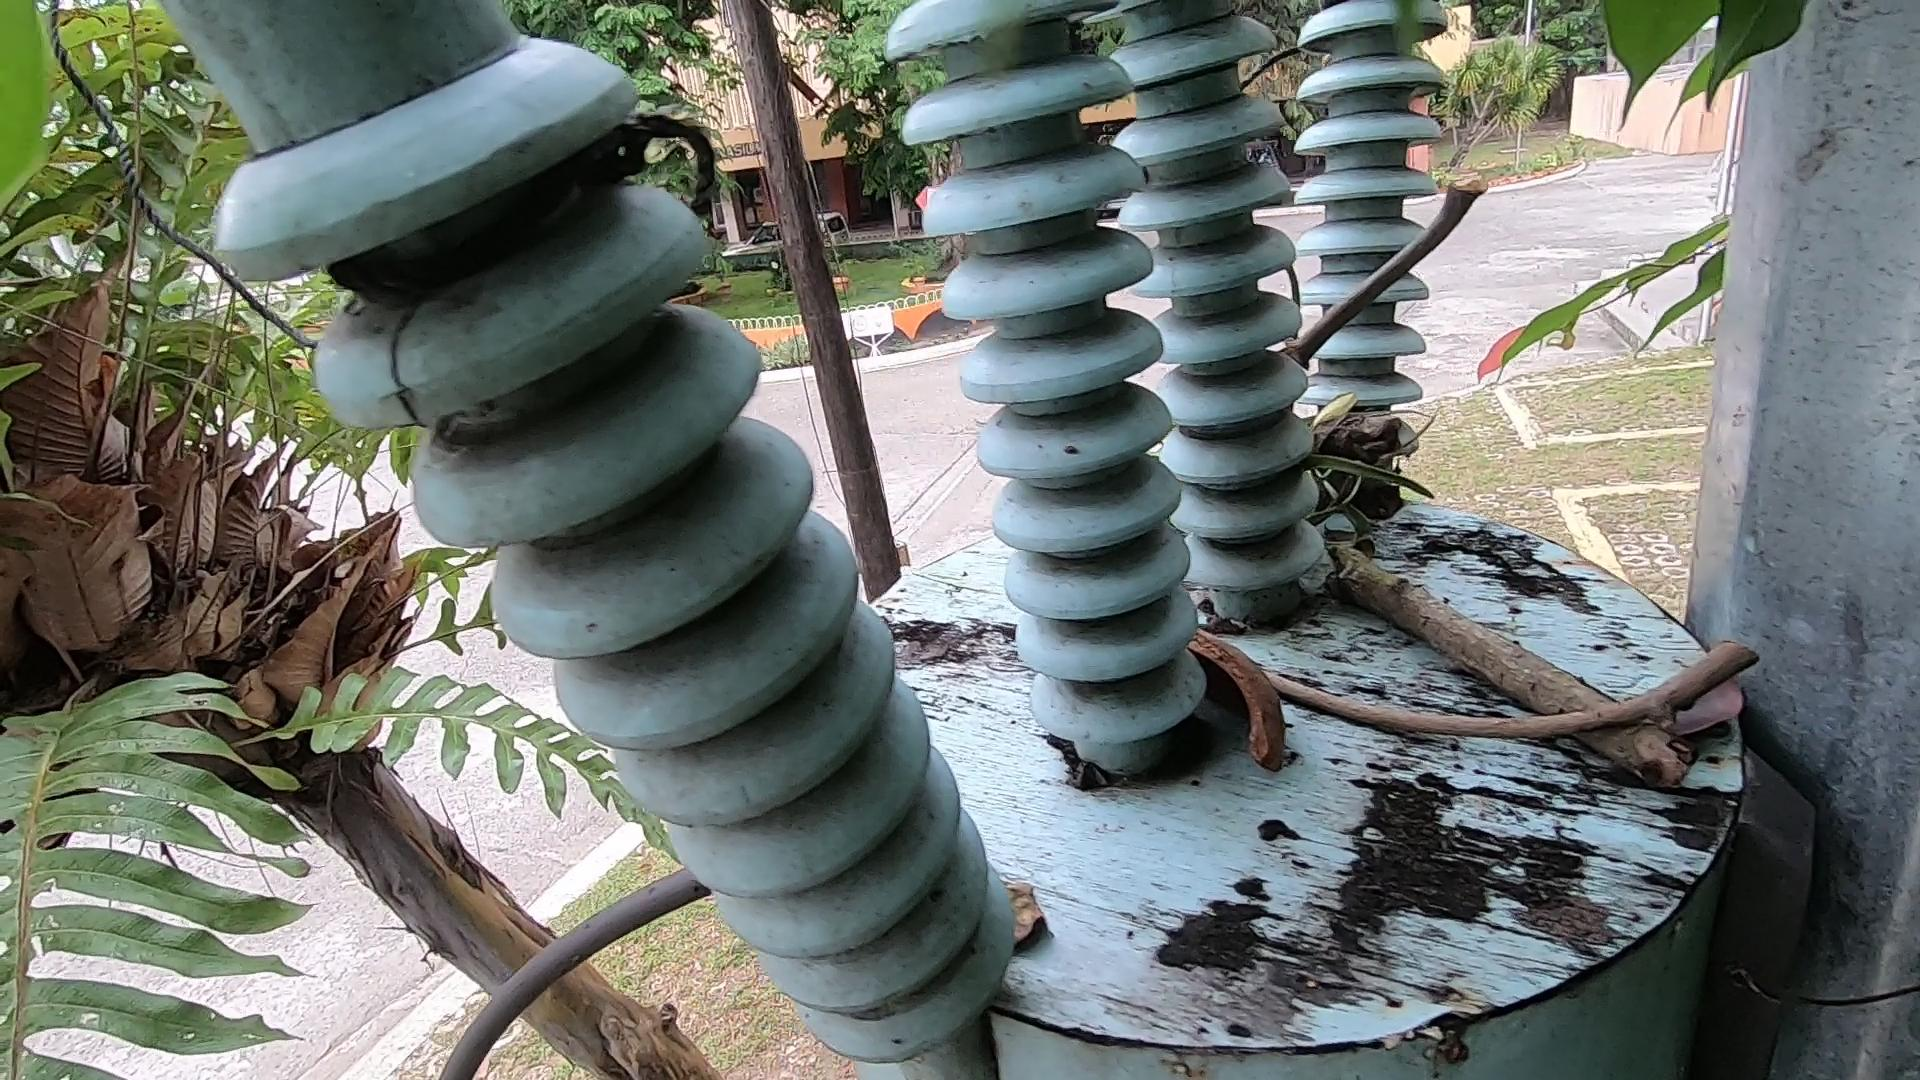branch with leaves: (1232, 328, 1737, 872)
leaf: (939, 818, 1106, 986), (1631, 642, 1760, 781)
mahogany fruit: (1174, 615, 1276, 814)
tree branch: (1278, 9, 1542, 409), (1197, 624, 1770, 775)
